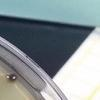brown: (5, 72, 18, 82)
